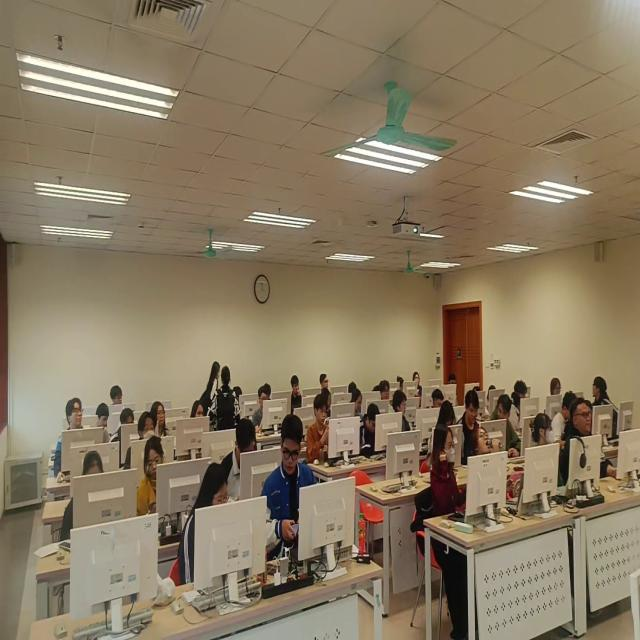raise_hand: (472, 425, 505, 456)
raise_head: (432, 425, 464, 519), (560, 400, 594, 488), (54, 398, 85, 484), (124, 412, 157, 471), (151, 402, 171, 437), (510, 393, 523, 431), (111, 385, 124, 405), (413, 372, 423, 397), (191, 402, 205, 419), (382, 380, 392, 401), (321, 375, 330, 390)
stand: (208, 367, 242, 431), (204, 362, 221, 417)
using_computer: (262, 414, 320, 554), (180, 464, 231, 588), (61, 452, 105, 543), (222, 419, 257, 501), (138, 438, 166, 519), (428, 401, 456, 473), (458, 391, 481, 467), (551, 392, 579, 444), (360, 404, 381, 457), (112, 408, 136, 446), (253, 386, 269, 433), (448, 373, 463, 408), (291, 376, 302, 415), (487, 386, 498, 419), (351, 389, 364, 416), (433, 389, 446, 409), (322, 389, 332, 411), (515, 381, 528, 397), (234, 385, 243, 401), (398, 375, 406, 391), (349, 381, 358, 394), (264, 384, 272, 397), (474, 386, 482, 394)
using_phone: (307, 394, 330, 464)
